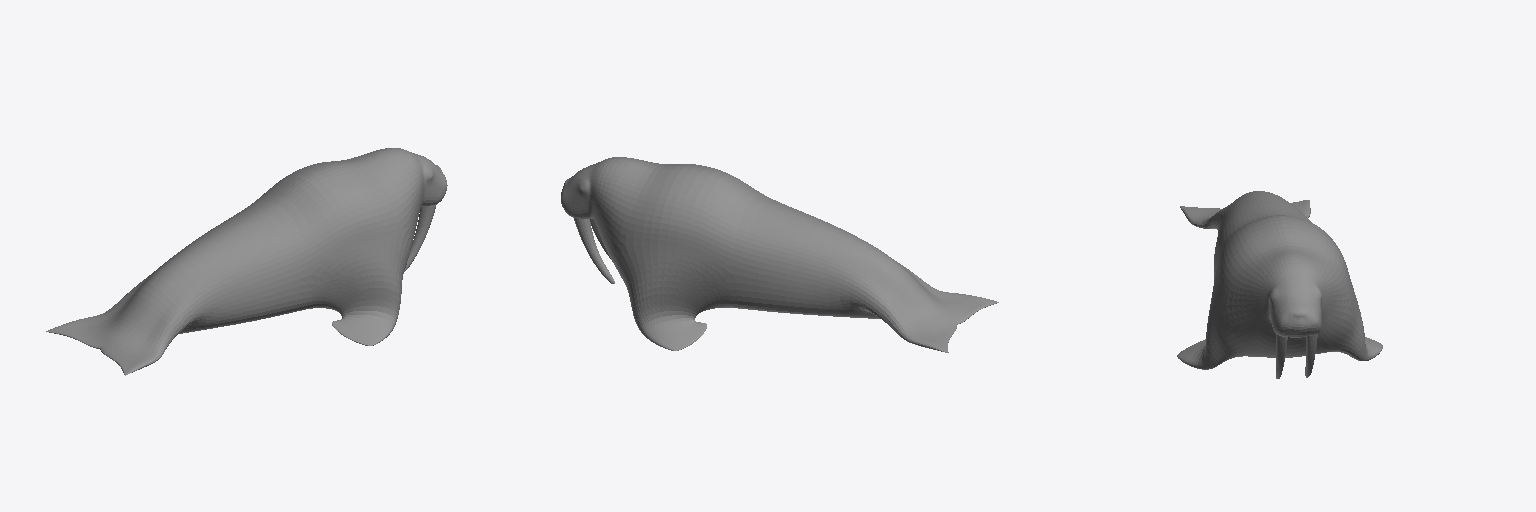
File: walrus.obj
3 views of the same model, side by side, from view 1: azimuth 30°, elevation 25°; view 2: azimuth 150°, elevation 25°; view 3: azimuth 270°, elevation 25° (orthographic).
Visible parts, largest first — view 1: 10053_Walrus_v1_L3; view 2: 10053_Walrus_v1_L3; view 3: 10053_Walrus_v1_L3.
Boxes of the visible parts, x1=… form: 10053_Walrus_v1_L3: x1=46, y1=148, x2=447, y2=375; 10053_Walrus_v1_L3: x1=561, y1=157, x2=998, y2=352; 10053_Walrus_v1_L3: x1=1177, y1=191, x2=1382, y2=378.
Bounding box in the file's own units: 152 × 50.83 × 69.29.